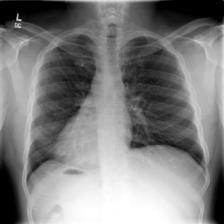normal: (21, 28, 210, 187)
